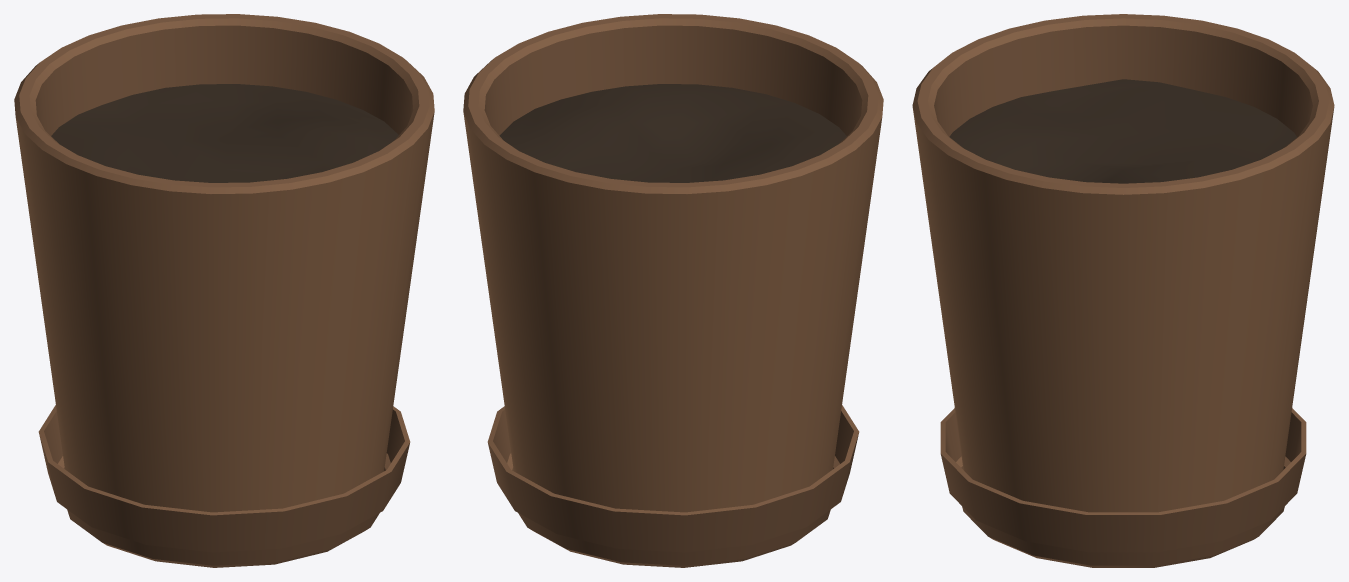
Rendered from TerracottaPot_WithSaucerL.glb.
3 renders of one model, left to right at view 1: azimuth 30°, elevation 25°; view 2: azimuth 150°, elevation 25°; view 3: azimuth 270°, elevation 25°, orthographic.
Visible parts, largest first — view 1: Terracotta Pot w/ Saucer L; view 2: Terracotta Pot w/ Saucer L; view 3: Terracotta Pot w/ Saucer L.
Boxes of the visible parts, x1,y1,x2,y2 form: Terracotta Pot w/ Saucer L: (14, 14, 434, 567); Terracotta Pot w/ Saucer L: (463, 14, 883, 567); Terracotta Pot w/ Saucer L: (912, 14, 1334, 567).
Size of the model in its own units: 0.2327 by 0.2447 by 0.2327.
Materials: 1 (1 with a texture image).
